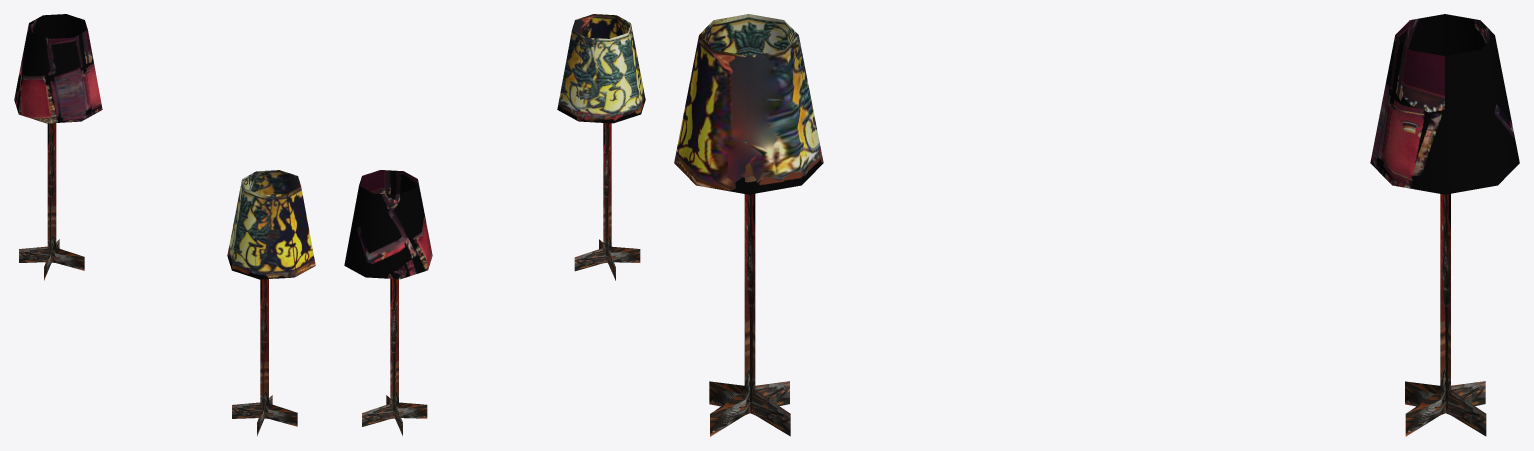
File: Kitchen_GEO_GRP1_Ramp.obj
3 views of the same model, side by side, from view 1: azimuth 30°, elevation 25°; view 2: azimuth 150°, elevation 25°; view 3: azimuth 270°, elevation 25° (orthographic). The views are drawn at different scales.
Parts seen in each view (by area): view 1: Kitchen_GEO_GRP1_Ramp; view 2: Kitchen_GEO_GRP1_Ramp; view 3: Kitchen_GEO_GRP1_Ramp.
Boxes of the visible parts, x1,y1,x2,y2 form: Kitchen_GEO_GRP1_Ramp: [14, 14, 315, 436]; Kitchen_GEO_GRP1_Ramp: [344, 14, 645, 435]; Kitchen_GEO_GRP1_Ramp: [674, 14, 1519, 436].
Bounding box in the file's own units: 0.7155 × 2.06 × 4.05.
1 material, 1 textured.
